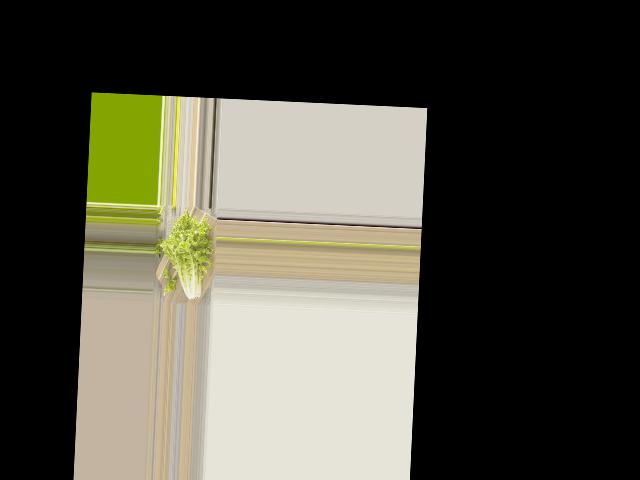lettuce: (159, 213, 214, 305)
